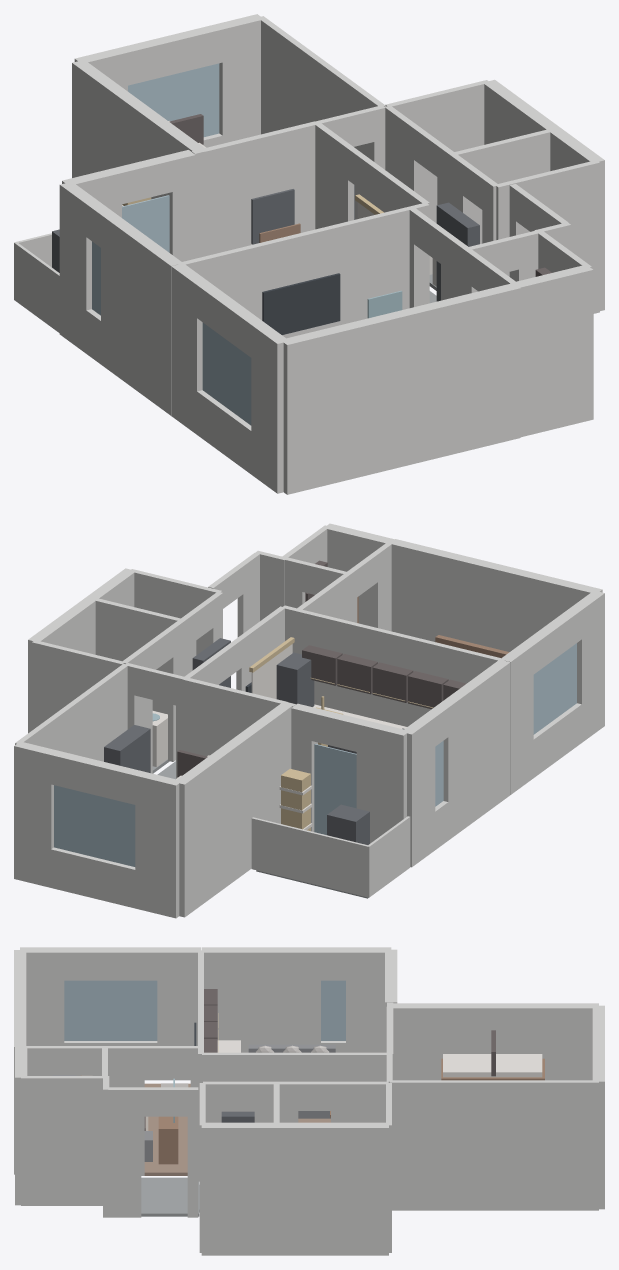
Rendered from kvartira-graphite-school-guest.glb.
The picture shows the model from 3 angles, top to bottom: view 1: azimuth 30°, elevation 25°; view 2: azimuth 150°, elevation 25°; view 3: azimuth 270°, elevation 25°; orthographic projection. The views are drawn at different scales.
Parts seen in each view (by area): view 1: wall_w_l_s_166_612_0.0, wall_w_dividing_168_644_0.0, wall_w_closet_s_612_752_0.0, wall_w_k_w_559_791_0.0, wall_w_top_s_426_660_0.0, wall_w_top_w_20_423_0.0, wall_w_top_e_20_425_0.0, wall_w_wc_s_777_971_0.0, wall_w_l_w_1057_1143_0.0, wall_w_top_n_691_771_0.0, wall_w_bath_n_777_971_0.0, wall_w_k_w_423_511_0.0 (+40 smaller); view 2: wall_w_l_s_166_612_0.0, wall_w_top_w_20_423_0.0, wall_w_dividing_168_644_0.0, wall_w_k_w_559_791_0.0, wall_w_top_n_422_510_0.0, wall_w_log_n_159_409_0.0, wall_w_top_n_691_771_0.0, wall_w_top_e_20_425_0.0, wall_w_top_n_510_691_0.8, wall_w_k_n1_165_266_0.0, wall_w_k_n2_408_643_0.0, wall_w_bath_n_777_971_0.0 (+51 smaller); view 3: wall_w_top_e_20_425_0.0, wall_w_bath_e_427_791_0.0, wall_w_top_w_20_423_0.0, wall_w_k_w_559_791_0.0, wall_w_closet_e_978_1141_0.0, wall_w_l_w_877_1057_0.8, wall_w_entry_e_908_972_0.0, wall_w_l_w_792_877_0.0, wall_w_k_w_423_511_0.0, wall_w_l_w_1057_1143_0.0, wall_w_l_w_877_1057_2.1, wall_w_k_e_625_790_0.0 (+30 smaller).
Part boxes in pixels (x1=…): wall_w_l_s_166_612_0.0: x1=281, y1=283, x2=520, y2=494; wall_w_dividing_168_644_0.0: x1=178, y1=202, x2=429, y2=338; wall_w_closet_s_612_752_0.0: x1=516, y1=265, x2=593, y2=437; wall_w_k_w_559_791_0.0: x1=101, y1=212, x2=182, y2=415; wall_w_top_s_426_660_0.0: x1=204, y1=119, x2=327, y2=256; wall_w_top_w_20_423_0.0: x1=72, y1=60, x2=204, y2=199; wall_w_top_e_20_425_0.0: x1=258, y1=16, x2=385, y2=219; wall_w_wc_s_777_971_0.0: x1=495, y1=161, x2=599, y2=313; wall_w_l_w_1057_1143_0.0: x1=251, y1=322, x2=289, y2=493; wall_w_top_n_691_771_0.0: x1=216, y1=14, x2=263, y2=143; wall_w_bath_n_777_971_0.0: x1=385, y1=80, x2=489, y2=223; wall_w_k_w_423_511_0.0: x1=59, y1=183, x2=98, y2=353; wall_w_l_s_166_612_0.0: x1=390, y1=539, x2=602, y2=651; wall_w_top_w_20_423_0.0: x1=174, y1=703, x2=292, y2=917; wall_w_dividing_168_644_0.0: x1=282, y1=605, x2=505, y2=726; wall_w_k_w_559_791_0.0: x1=437, y1=659, x2=510, y2=840; wall_w_top_n_422_510_0.0: x1=135, y1=771, x2=181, y2=918; wall_w_log_n_159_409_0.0: x1=251, y1=817, x2=368, y2=897; wall_w_top_n_691_771_0.0: x1=14, y1=742, x2=56, y2=887; wall_w_top_e_20_425_0.0: x1=15, y1=663, x2=127, y2=761; wall_w_top_n_510_691_0.8: x1=54, y1=785, x2=135, y2=866; wall_w_k_n1_165_266_0.0: x1=356, y1=719, x2=409, y2=843; wall_w_k_n2_408_643_0.0: x1=183, y1=679, x2=295, y2=756; wall_w_bath_n_777_971_0.0: x1=32, y1=641, x2=124, y2=730; wall_w_top_e_20_425_0.0: x1=390, y1=1080, x2=598, y2=1210; wall_w_bath_e_427_791_0.0: x1=201, y1=1122, x2=388, y2=1255; wall_w_top_w_20_423_0.0: x1=391, y1=1003, x2=598, y2=1080; wall_w_k_w_559_791_0.0: x1=201, y1=947, x2=320, y2=1052; wall_w_closet_e_978_1141_0.0: x1=21, y1=1076, x2=104, y2=1205; wall_w_l_w_877_1057_0.8: x1=64, y1=980, x2=157, y2=1040; wall_w_entry_e_908_972_0.0: x1=108, y1=1087, x2=141, y2=1217; wall_w_l_w_792_877_0.0: x1=157, y1=947, x2=200, y2=1080; wall_w_k_w_423_511_0.0: x1=346, y1=947, x2=391, y2=1052; wall_w_l_w_1057_1143_0.0: x1=20, y1=947, x2=64, y2=1045; wall_w_l_w_877_1057_2.1: x1=64, y1=947, x2=157, y2=980; wall_w_k_e_625_790_0.0: x1=202, y1=1052, x2=286, y2=1111.
Size of the model in its own units: 8.24 by 2.77 by 11.41.
